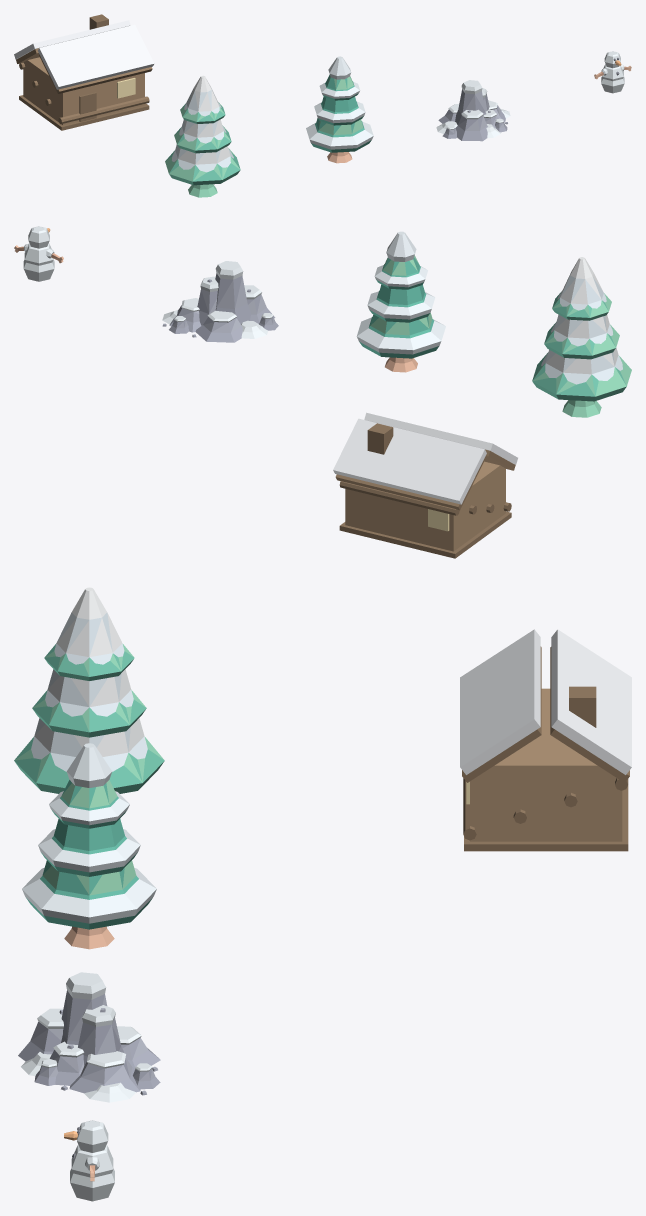
The model's file is decor_snow.glb.
3 renders of one model, top to bottom at view 1: azimuth 30°, elevation 25°; view 2: azimuth 150°, elevation 25°; view 3: azimuth 270°, elevation 25°, orthographic. The views are drawn at different scales.
Parts seen in each view (by area): view 1: Kulube, Cam1, Cam2, Kaya, Kardan; view 2: Kulube, Cam1, Cam2, Kaya, Kardan; view 3: Kulube, Cam1, Cam2, Kaya, Kardan.
Boxes of the visible parts, x1,y1,x2,y2 form: Kulube: [14, 14, 154, 130]; Cam1: [165, 75, 240, 197]; Cam2: [306, 56, 373, 163]; Kaya: [436, 80, 510, 141]; Kardan: [594, 51, 631, 93]; Kulube: [333, 412, 517, 558]; Cam1: [532, 257, 631, 417]; Cam2: [356, 231, 445, 372]; Kaya: [162, 261, 278, 342]; Kardan: [14, 226, 63, 281]; Kulube: [460, 629, 631, 851]; Cam1: [14, 587, 164, 793]; Cam2: [22, 743, 156, 949]; Kaya: [18, 972, 160, 1102]; Kardan: [64, 1120, 114, 1201].
Size of the model in its own units: 34.85 by 8 by 20.3.
